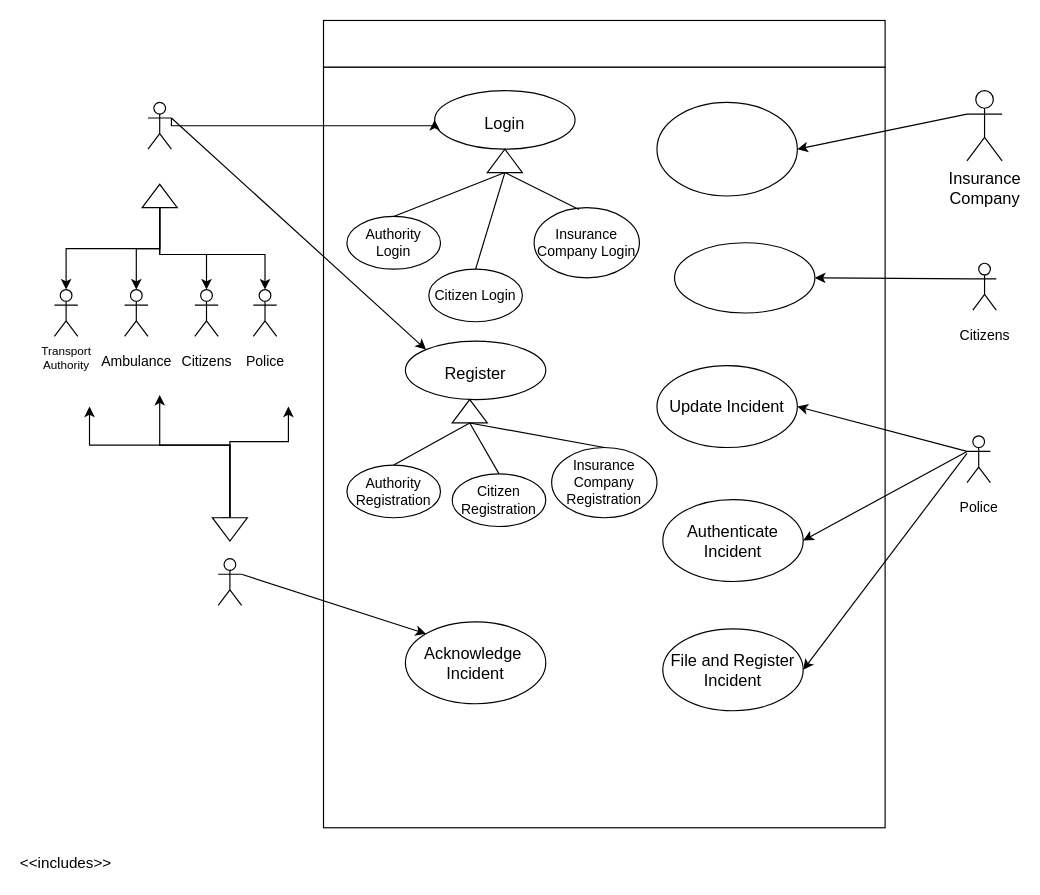
The diagram is 1040 pixels wide and 895 high, and some of its shapes have lost their labels. Here are the shapes that lost their labels. From the top down, the centre of each, then its label:
pixel 603 43: On spot accident reporting System
pixel 159 125: User
pixel 726 148: Check for policy holder
pixel 744 277: Report Incident
pixel 229 581: Authenticated User
